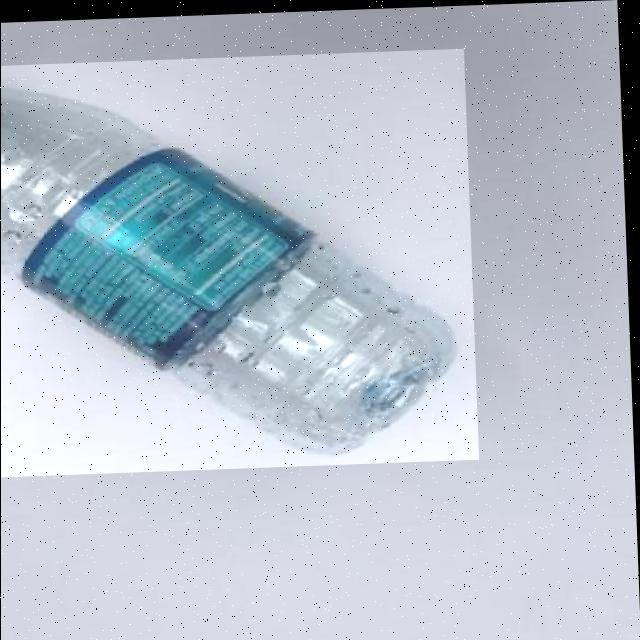plastic: (0, 48, 479, 473)
